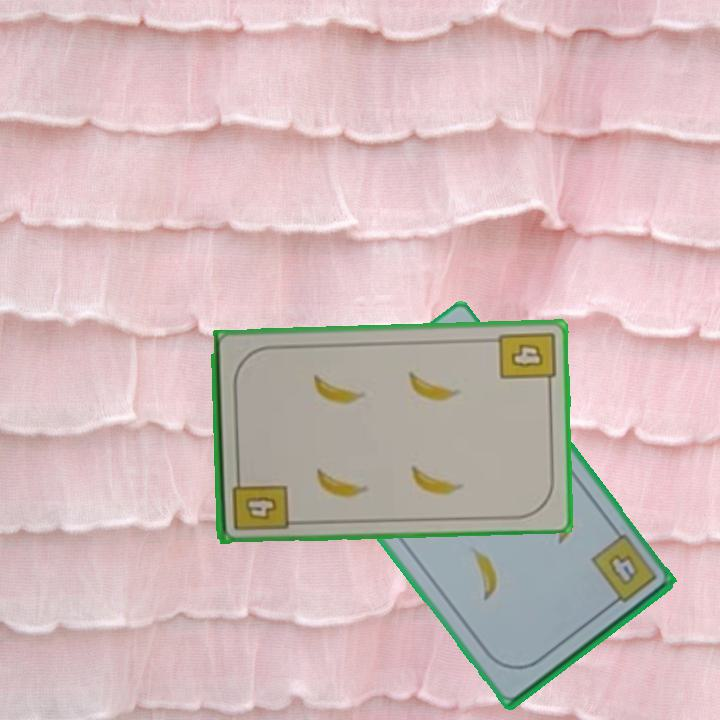4b: (587, 531, 660, 611), (495, 328, 558, 392), (228, 468, 290, 533)
